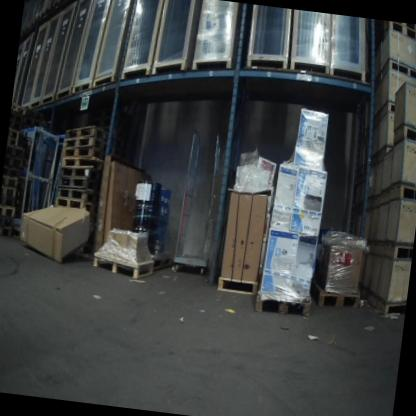pallet: (91, 250, 154, 282), (252, 290, 311, 319), (311, 281, 361, 312), (64, 121, 109, 145), (61, 141, 106, 165), (58, 171, 102, 192), (60, 154, 104, 173), (62, 134, 107, 152), (59, 163, 103, 181), (386, 56, 416, 82), (54, 195, 97, 213), (56, 186, 98, 203), (387, 22, 416, 41), (383, 297, 406, 318), (393, 240, 413, 262), (398, 181, 416, 204), (151, 254, 172, 273), (402, 122, 416, 146), (5, 143, 24, 160), (388, 21, 416, 32), (10, 101, 28, 116), (2, 165, 20, 179), (4, 156, 22, 170), (1, 174, 18, 188), (0, 186, 17, 198), (0, 215, 15, 228), (0, 204, 15, 217), (0, 196, 16, 207), (39, 4, 50, 19), (28, 14, 39, 29), (0, 225, 12, 238), (386, 99, 396, 114), (52, 0, 65, 9)
